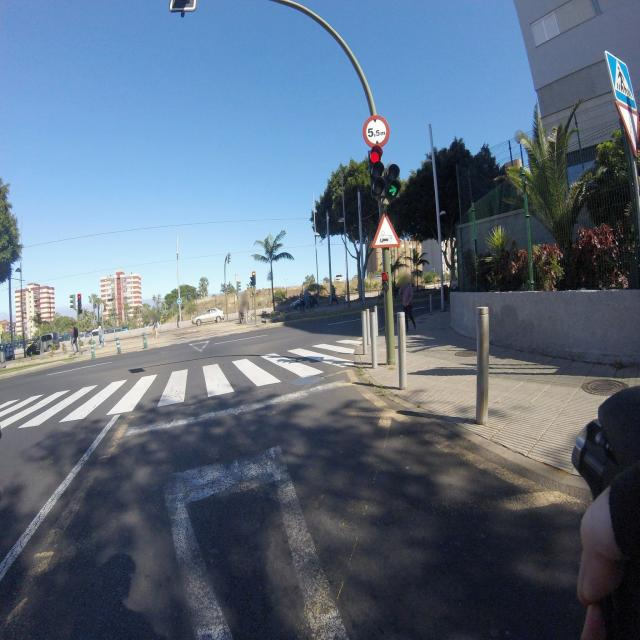car: (24, 331, 60, 356), (192, 307, 226, 325), (1, 343, 15, 361), (333, 274, 346, 283)
